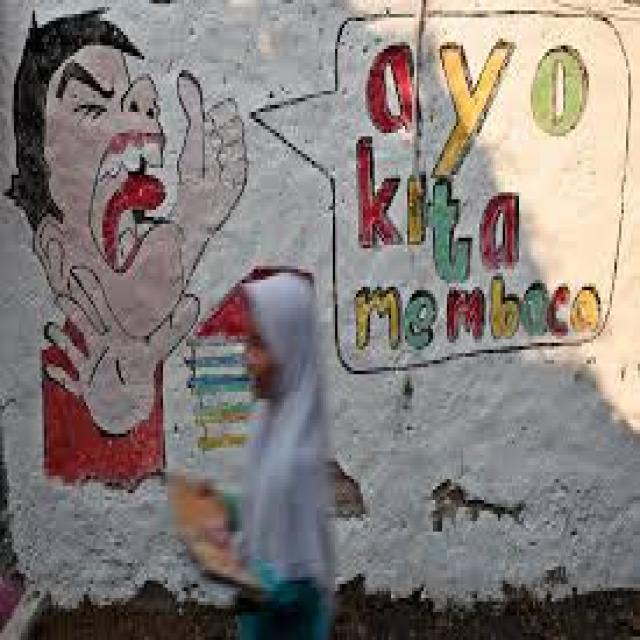-: (3, 12, 317, 490), (248, 13, 634, 374)
